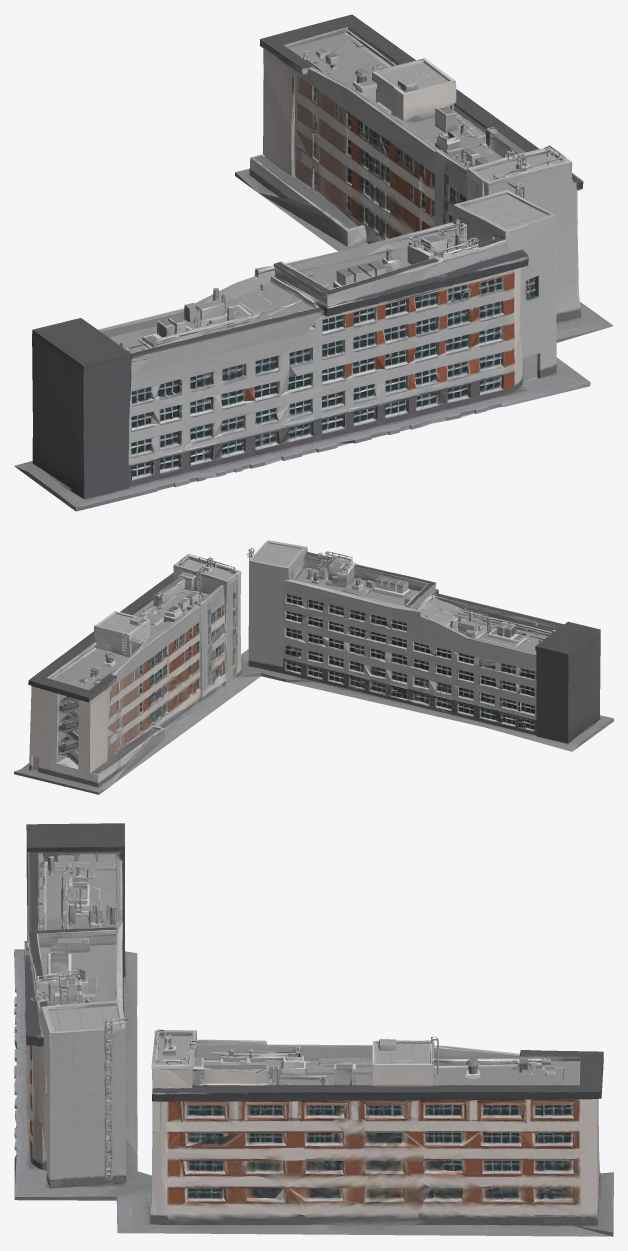
Rendered from namdong.glb.
The picture shows the model from 3 angles, top to bottom: view 1: azimuth 30°, elevation 25°; view 2: azimuth 150°, elevation 25°; view 3: azimuth 270°, elevation 25°; orthographic projection. The views are drawn at different scales.
Bounding box in the file's own units: 1.9 × 0.5316 × 1.7.
1 material, 1 textured.
